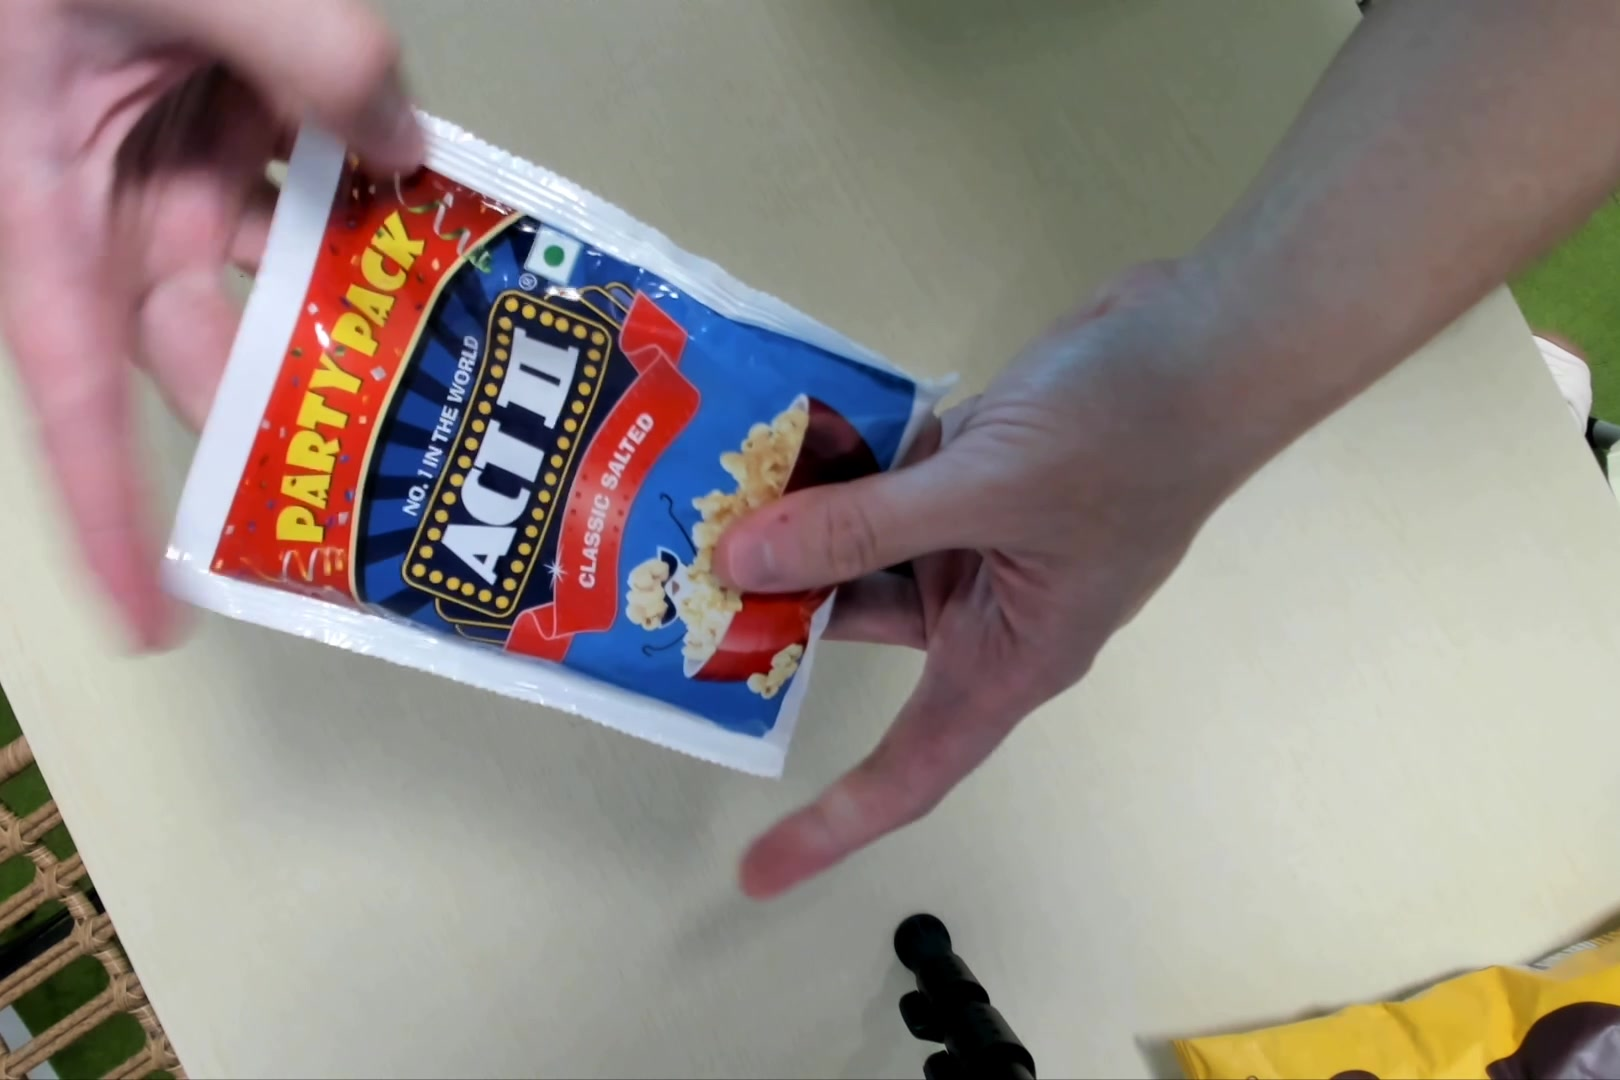PotatoChipsKeropok_100-199g_NonHalal_NonHealthy: (148, 124, 940, 785)
